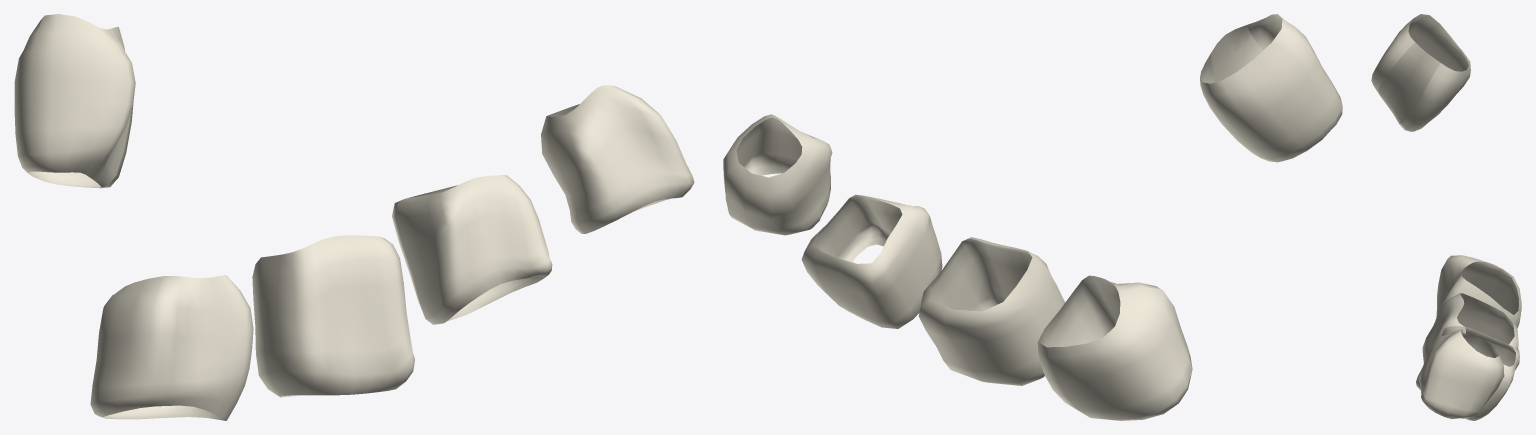
The picture shows the model from 3 angles, left to right: view 1: azimuth 30°, elevation 25°; view 2: azimuth 150°, elevation 25°; view 3: azimuth 270°, elevation 25°; orthographic projection. The views are drawn at different scales.
Parts seen in each view (by area): view 1: ZA_eeb0cf351e832a6f; view 2: ZA_eeb0cf351e832a6f; view 3: ZA_eeb0cf351e832a6f.
Part boxes in pixels (<box>): ZA_eeb0cf351e832a6f: <box>14,14,694,420</box>; ZA_eeb0cf351e832a6f: <box>723,14,1342,420</box>; ZA_eeb0cf351e832a6f: <box>1371,14,1521,420</box>.
Bounding box in the file's own units: 0.0924 × 0.0614 × 0.0286.
